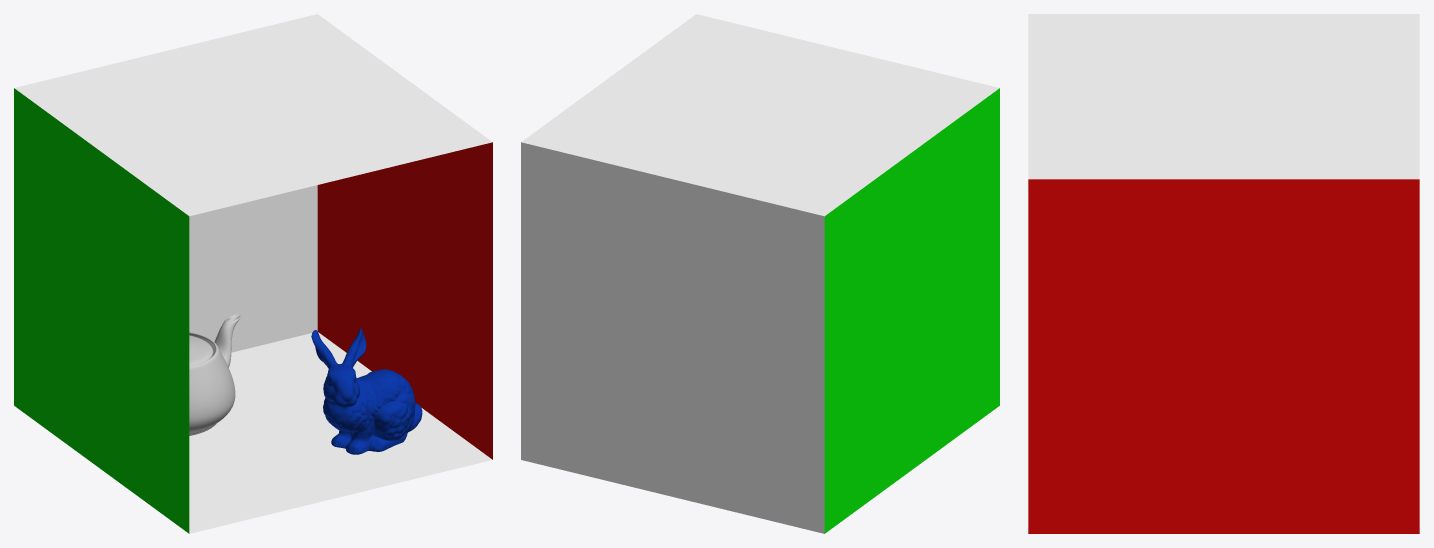
Rendered from white_box.obj.
The picture shows the model from 3 angles, left to right: view 1: azimuth 30°, elevation 25°; view 2: azimuth 150°, elevation 25°; view 3: azimuth 270°, elevation 25°; orthographic projection. The views are drawn at different scales.
Visible parts, largest first — view 1: Box, Rabbit, Teapot; view 2: Box; view 3: Box.
Part boxes in pixels (x1,y1,x2,y2): Box: (14, 14, 492, 533); Rabbit: (311, 328, 422, 454); Teapot: (189, 314, 241, 435); Box: (521, 14, 999, 533); Box: (1028, 14, 1419, 533).
Bounding box in the file's own units: 5 × 5.03 × 5.
